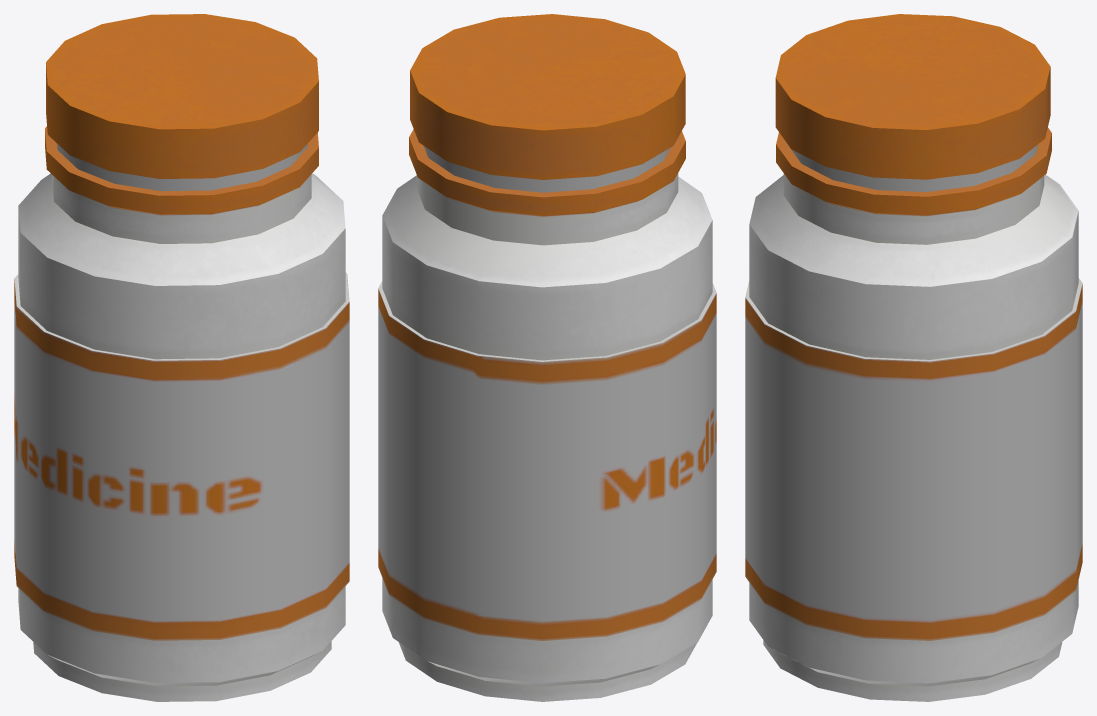
Rendered from MedicineBottleA.glb.
3 renders of one model, left to right at view 1: azimuth 30°, elevation 25°; view 2: azimuth 150°, elevation 25°; view 3: azimuth 270°, elevation 25°, orthographic.
Parts seen in each view (by area): view 1: MedicineBottleA; view 2: MedicineBottleA; view 3: MedicineBottleA.
Boxes of the visible parts, bbox=[...] form: MedicineBottleA: bbox=[14, 14, 349, 701]; MedicineBottleA: bbox=[378, 14, 716, 701]; MedicineBottleA: bbox=[745, 14, 1082, 701].
Bounding box in the file's own units: 0.0258 × 0.0479 × 0.0258.
Materials: 1 (1 with a texture image).
